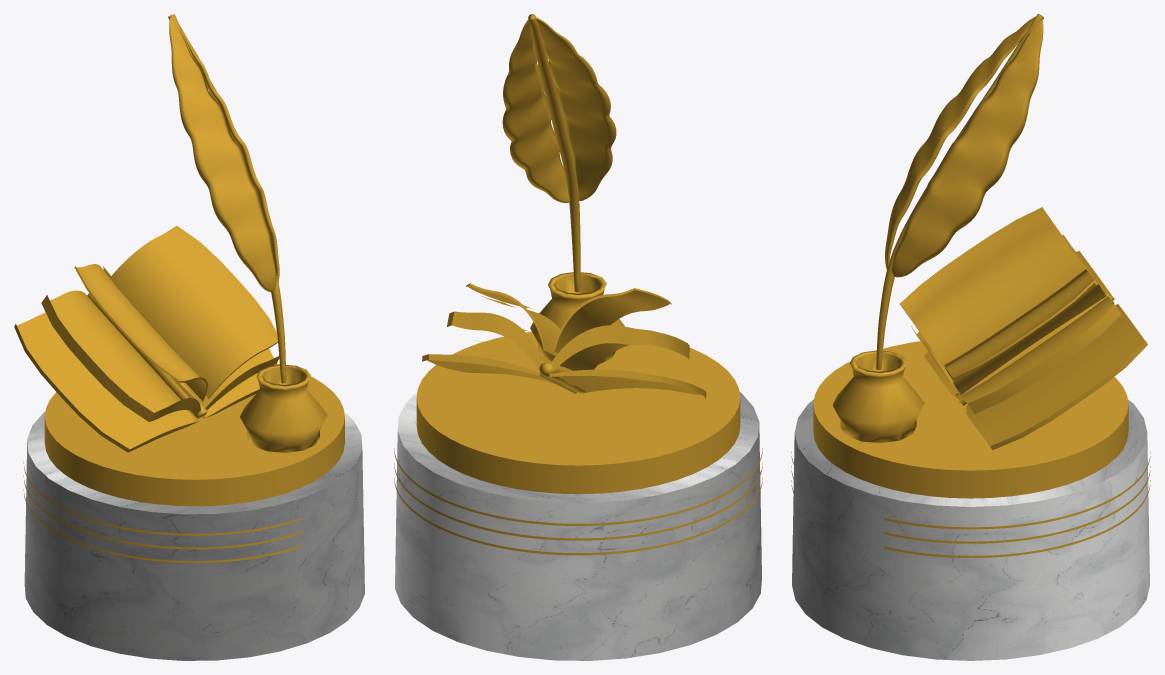
The model's file is literature.glb.
3 views of the same model, side by side, from view 1: azimuth 30°, elevation 25°; view 2: azimuth 150°, elevation 25°; view 3: azimuth 270°, elevation 25° (orthographic). The views are drawn at different scales.
Visible parts, largest first — view 1: marble_column, gold_cap, leaf_l, vane_b, pages_r, cover_r, ink_bottle, leaf_r, vane_a, pages_l, quill_shaft, cover_l (+4 smaller); view 2: marble_column, gold_cap, vane_b, vane_a, pages_r, quill_shaft, leaf_r, ink_bottle, cover_r, pages_l, cover_l, leaf_l (+3 smaller); view 3: marble_column, gold_cap, leaf_r, vane_a, cover_l, pages_l, ink_bottle, vane_b, leaf_l, quill_shaft, gold_band_1, gold_band_3 (+3 smaller).
Boxes of the visible parts, bbox=[...] form: marble_column: bbox=[24, 411, 364, 660]; gold_cap: bbox=[44, 363, 344, 506]; leaf_l: bbox=[111, 225, 277, 398]; vane_b: bbox=[169, 15, 276, 292]; pages_r: bbox=[41, 290, 200, 421]; cover_r: bbox=[14, 312, 198, 452]; ink_bottle: bbox=[240, 365, 327, 452]; leaf_r: bbox=[74, 264, 207, 401]; vane_a: bbox=[171, 14, 279, 281]; pages_l: bbox=[185, 348, 279, 409]; quill_shaft: bbox=[168, 14, 286, 383]; cover_l: bbox=[203, 373, 259, 418]; marble_column: bbox=[395, 392, 761, 660]; gold_cap: bbox=[416, 332, 740, 494]; vane_b: bbox=[532, 16, 616, 200]; vane_a: bbox=[502, 17, 569, 203]; pages_r: bbox=[550, 325, 689, 370]; quill_shaft: bbox=[528, 14, 580, 292]; leaf_r: bbox=[553, 288, 671, 353]; ink_bottle: bbox=[530, 272, 624, 364]; cover_r: bbox=[549, 369, 706, 398]; pages_l: bbox=[447, 311, 551, 369]; cover_l: bbox=[422, 354, 576, 393]; leaf_l: bbox=[466, 283, 560, 356]; marble_column: bbox=[792, 399, 1149, 660]; gold_cap: bbox=[813, 341, 1128, 498]; leaf_r: bbox=[899, 207, 1084, 381]; vane_a: bbox=[891, 16, 1043, 277]; cover_l: bbox=[963, 303, 1147, 449]; pages_l: bbox=[953, 284, 1121, 413]; ink_bottle: bbox=[832, 350, 924, 443]; vane_b: bbox=[885, 15, 1040, 269]; leaf_l: bbox=[944, 269, 1095, 381]; quill_shaft: bbox=[876, 14, 1043, 369]; gold_band_1: bbox=[791, 480, 1150, 557]; gold_band_3: bbox=[791, 451, 1150, 529].
Size of what is drawn, in the model's own units: 0.4543 by 0.8041 by 0.4543.
Materials: 5 (1 with a texture image).
